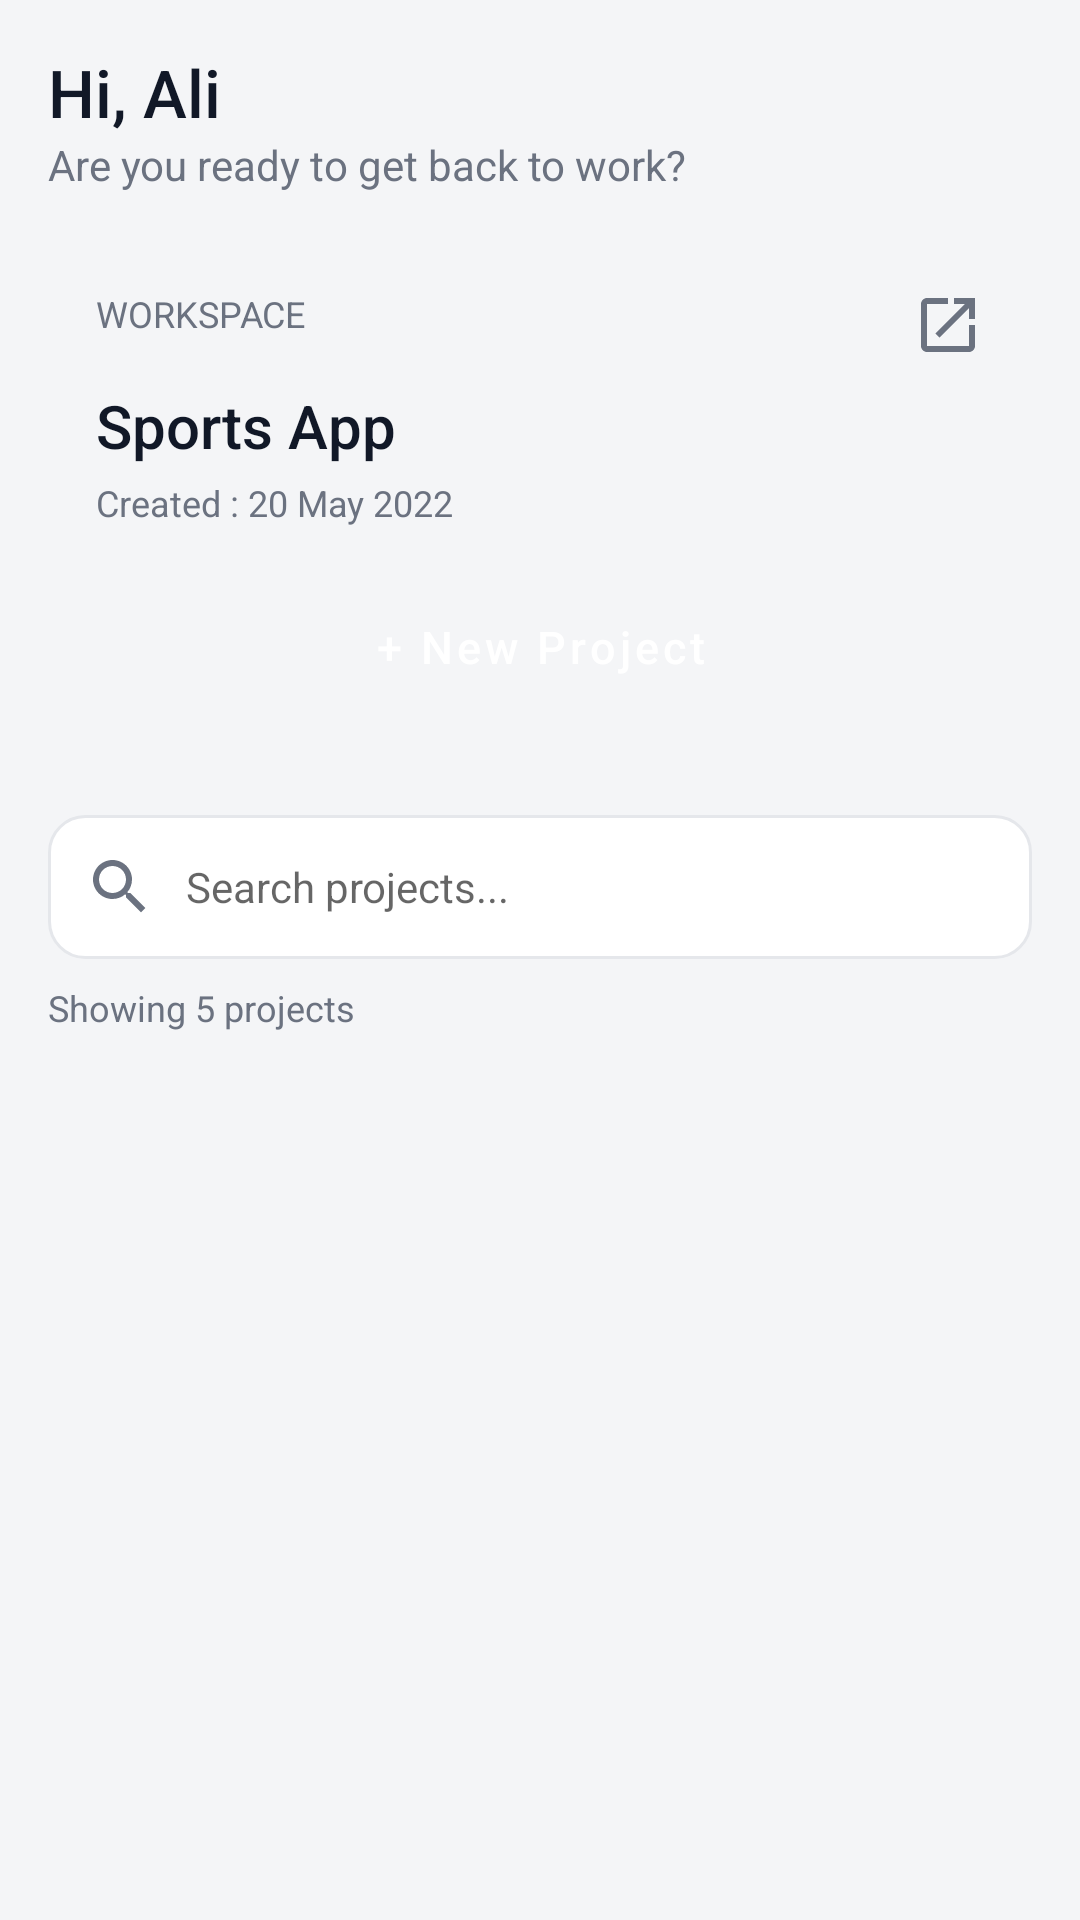

Icon bounding boxes for this 1080×1920 phone screenshot, format (x1, y1, x2, y2):
arrow up right: (921, 298, 975, 352)
